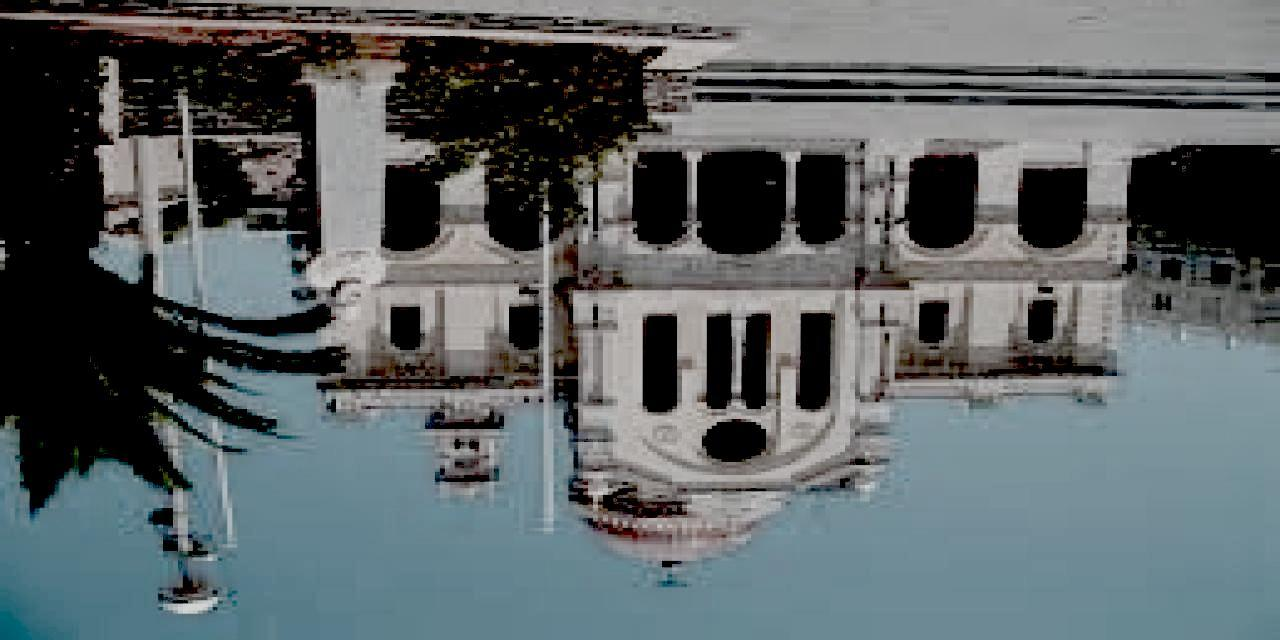Agios Minas: (300, 141, 1160, 639)
